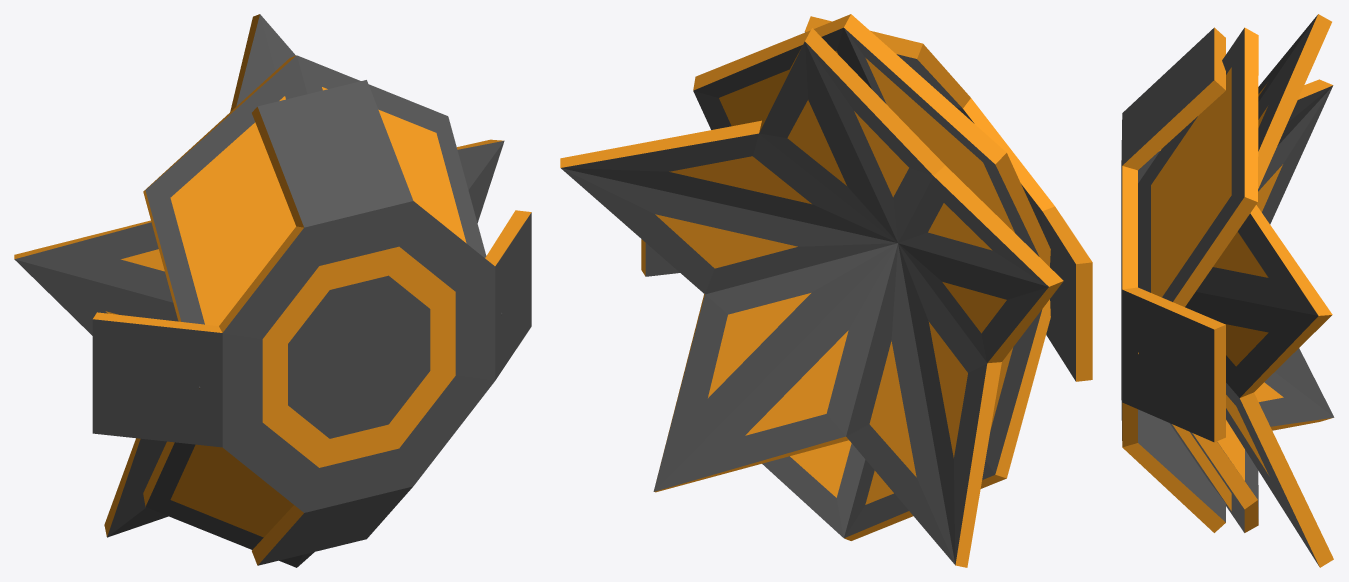
File: Armor.glb
The picture shows the model from 3 angles, left to right: view 1: azimuth 30°, elevation 25°; view 2: azimuth 150°, elevation 25°; view 3: azimuth 270°, elevation 25°; orthographic projection. The views are drawn at different scales.
Parts seen in each view (by area): view 1: Armor.001, Armor, Armor.002; view 2: Armor.002, Armor, Armor.001; view 3: Armor.002, Armor.001, Armor.
Boxes of the visible parts, <box> form: Armor.001: <box>92,80,531,565</box>; Armor: <box>143,55,502,567</box>; Armor.002: <box>14,14,504,537</box>; Armor.002: <box>560,28,1063,567</box>; Armor: <box>693,14,1050,540</box>; Armor.001: <box>641,16,1092,381</box>; Armor.002: <box>1185,14,1334,567</box>; Armor.001: <box>1121,27,1225,532</box>; Armor: <box>1138,27,1258,532</box>.
Size of the model in its own units: 1.35 by 1.39 by 0.5159.
